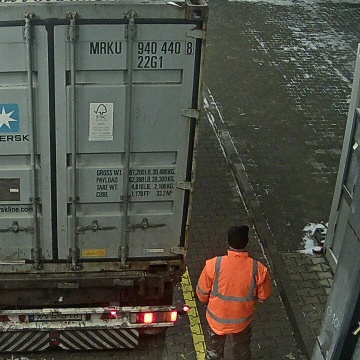serial_id: (90, 42, 192, 54)
